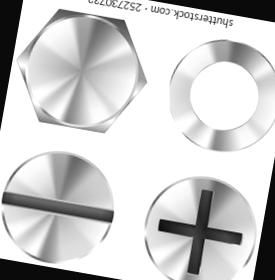screw: (7, 2, 156, 138)
